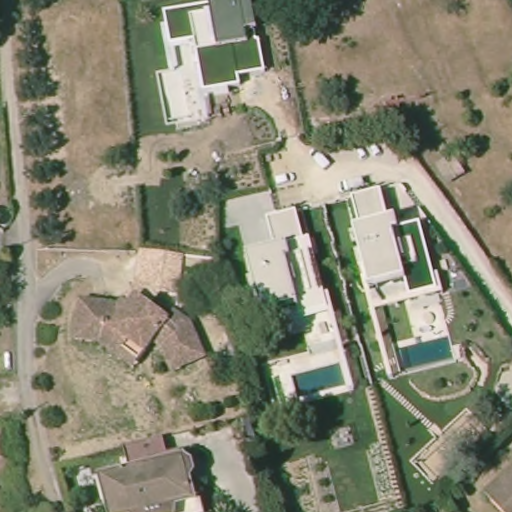pool: (387, 330, 457, 372), (286, 362, 349, 398)
